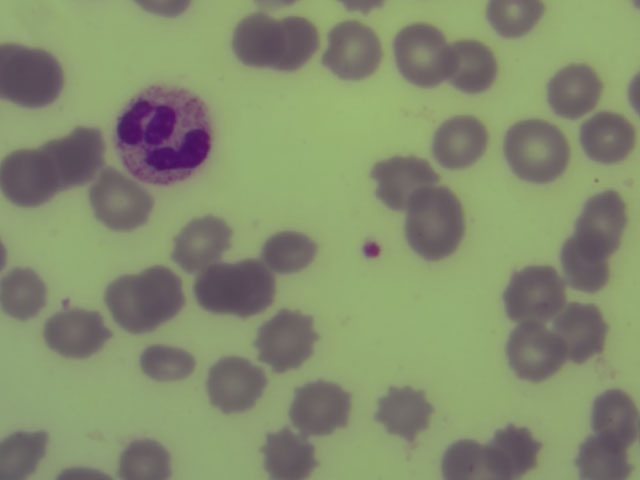Platelets: (363, 241, 381, 259)
RBC: (402, 186, 466, 257), (287, 377, 358, 435), (1, 43, 66, 105), (504, 122, 568, 184), (167, 210, 229, 273), (90, 176, 154, 232), (392, 23, 449, 83), (48, 305, 111, 356), (326, 23, 379, 83), (431, 116, 489, 168), (142, 338, 200, 390), (259, 312, 317, 364), (219, 259, 277, 311), (179, 263, 237, 315), (262, 229, 320, 281), (372, 156, 430, 208), (505, 326, 563, 378), (561, 231, 619, 283), (580, 190, 638, 242), (445, 38, 503, 90), (130, 267, 188, 319), (523, 219, 581, 271), (98, 277, 156, 329), (39, 137, 97, 189), (262, 15, 320, 67), (227, 13, 285, 65), (541, 63, 599, 115), (553, 304, 611, 356), (582, 387, 640, 439), (260, 428, 318, 480), (113, 428, 171, 480), (379, 385, 437, 437), (209, 358, 267, 410), (507, 270, 565, 322), (1, 265, 58, 317), (1, 149, 58, 201), (1, 425, 58, 477), (485, 424, 540, 471), (584, 112, 631, 162), (442, 440, 499, 480), (578, 440, 635, 480), (486, 1, 541, 37), (66, 120, 108, 162), (136, 1, 188, 21), (59, 464, 103, 480)
WBC: (118, 88, 215, 186)
